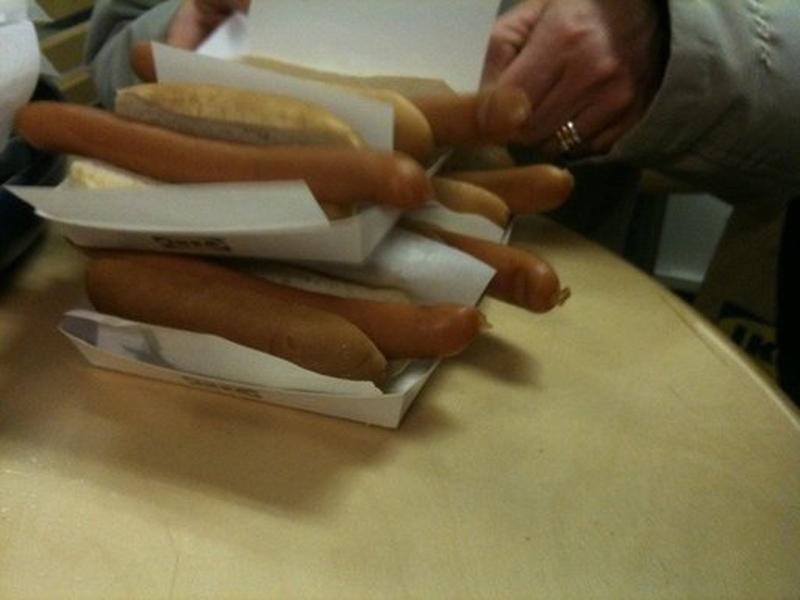hot_dog: (11, 25, 595, 451)
